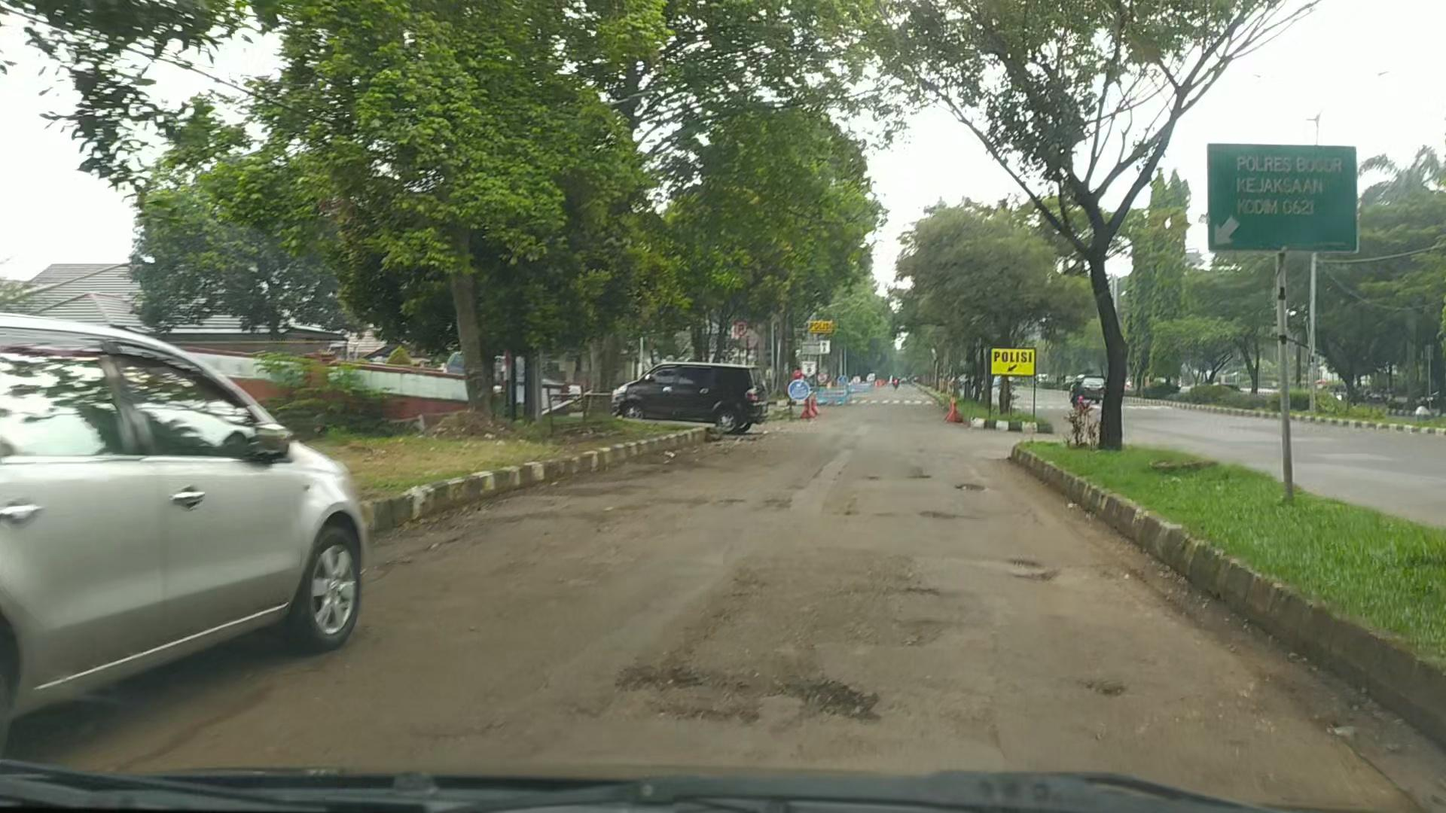pothole: (617, 661, 873, 714)
